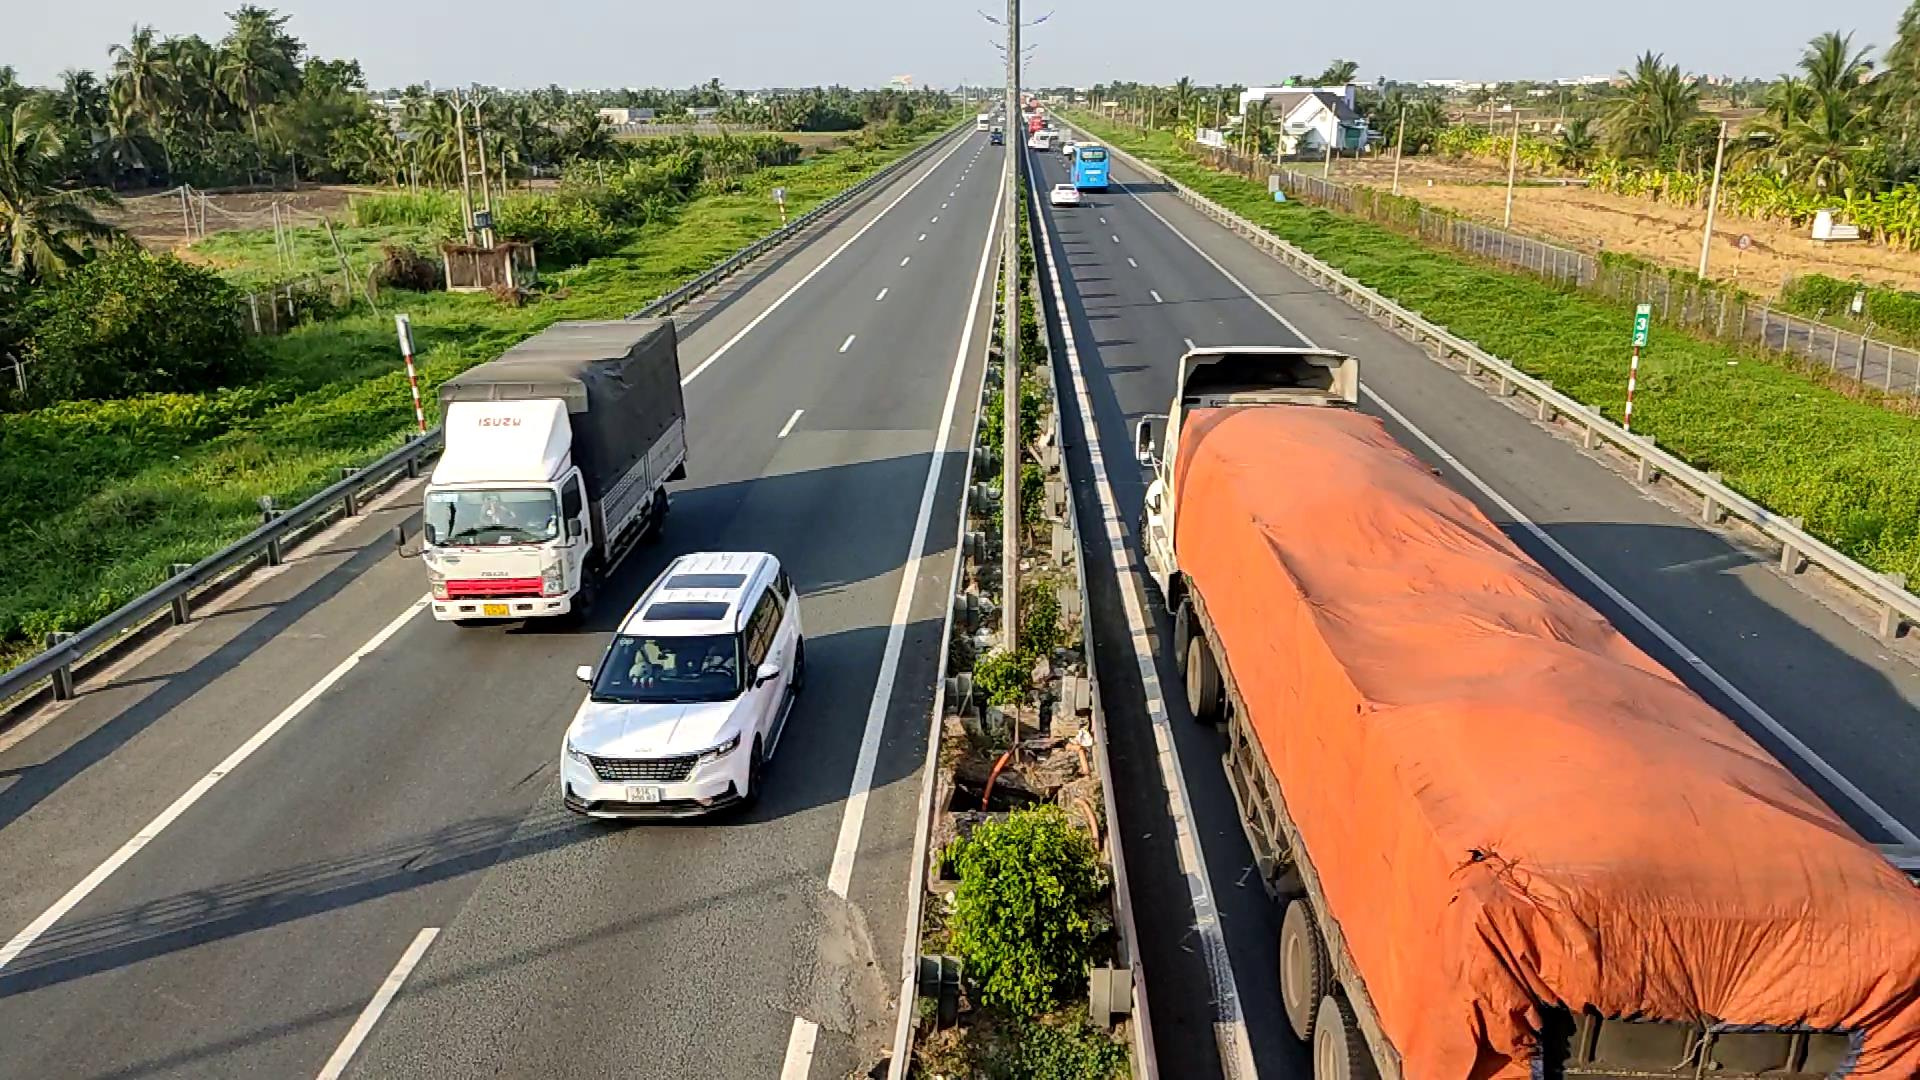car: (558, 549, 807, 820), (1050, 181, 1081, 204)
truck: (1137, 340, 1917, 1065), (419, 316, 688, 626)
